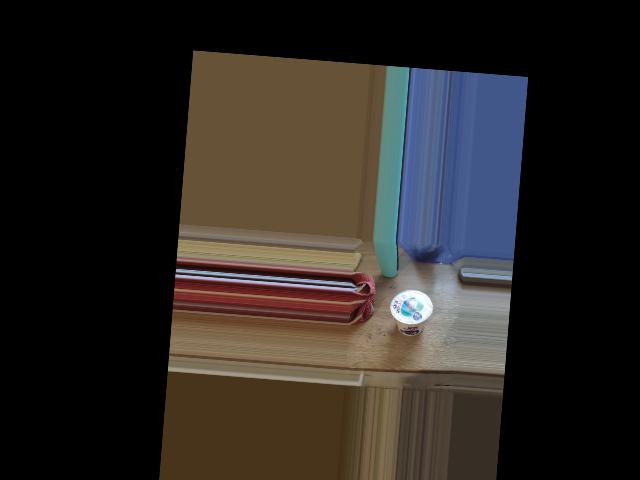cotage: (390, 286, 431, 339)
